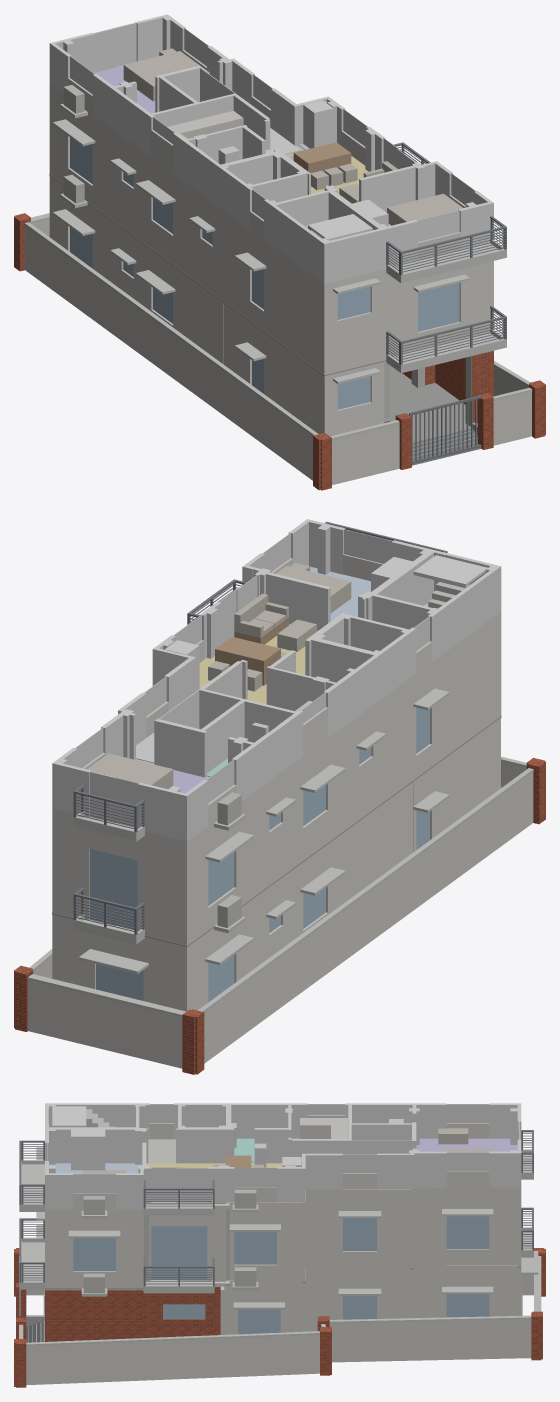
3 views of the same model, one above another, from view 1: azimuth 30°, elevation 25°; view 2: azimuth 150°, elevation 25°; view 3: azimuth 270°, elevation 25° (orthographic). The views are drawn at different scales.
Visible parts, largest first — view 1: BOUNDARY#209, 1ST_FLOOR/wall#294, 1ST_FLOOR/wall#287, GROUND_FLOOR/core_wall#97, 1ST_FLOOR/wall#299, GROUND_FLOOR/flat_wall#46, BOUNDARY#167, PLINTH#0, 2ND_FLOOR/wall#601, 1ST_FLOOR/wall#314, 1ST_FLOOR/wall#304, 1ST_FLOOR/wall#292 (+75 smaller); view 2: BOUNDARY#209, BOUNDARY#205, 1ST_FLOOR/wall#294, 1ST_FLOOR/wall#342, GROUND_FLOOR/core_wall#97, 1ST_FLOOR/wall#299, GROUND_FLOOR/flat_wall#46, 2ND_FLOOR/wall#601, 1ST_FLOOR/wall#345, 1ST_FLOOR/wall#314, 1ST_FLOOR/wall#304, GROUND_FLOOR/flat_wall#78 (+73 smaller); view 3: BOUNDARY#193, BOUNDARY#201, GROUND_FLOOR/full_wall#151, 1ST_FLOOR/wall#336, 1ST_FLOOR/wall#341, 1ST_FLOOR/wall#346, 1ST_FLOOR/wall#351, GROUND_FLOOR/flat_wall#72, 2ND_FLOOR/partition#670, 1ST_FLOOR/wall#334, 1ST_FLOOR/wall#320, 1ST_FLOOR/wall#325 (+105 smaller).
Part boxes in pixels (bbox=[...]): BOUNDARY#209: bbox=[25, 226, 312, 480]; 1ST_FLOOR/wall#294: bbox=[264, 243, 322, 371]; 1ST_FLOOR/wall#287: bbox=[370, 272, 417, 361]; GROUND_FLOOR/core_wall#97: bbox=[270, 337, 324, 433]; 1ST_FLOOR/wall#299: bbox=[212, 206, 251, 318]; GROUND_FLOOR/flat_wall#46: bbox=[173, 266, 223, 363]; BOUNDARY#167: bbox=[332, 424, 399, 484]; PLINTH#0: bbox=[389, 383, 470, 443]; 2ND_FLOOR/wall#601: bbox=[264, 199, 325, 281]; 1ST_FLOOR/wall#314: bbox=[92, 118, 123, 224]; 1ST_FLOOR/wall#304: bbox=[173, 177, 202, 282]; 1ST_FLOOR/wall#292: bbox=[459, 261, 493, 339]; BOUNDARY#209: bbox=[204, 772, 533, 1063]; BOUNDARY#205: bbox=[28, 980, 182, 1068]; 1ST_FLOOR/wall#294: bbox=[430, 618, 498, 764]; 1ST_FLOOR/wall#342: bbox=[137, 835, 189, 943]; GROUND_FLOOR/core_wall#97: bbox=[439, 718, 500, 833]; 1ST_FLOOR/wall#299: bbox=[371, 678, 416, 807]; GROUND_FLOOR/flat_wall#46: bbox=[326, 804, 385, 914]; 2ND_FLOOR/wall#601: bbox=[428, 567, 498, 661]; 1ST_FLOOR/wall#345: bbox=[52, 813, 89, 919]; 1ST_FLOOR/wall#314: bbox=[234, 786, 269, 903]; 1ST_FLOOR/wall#304: bbox=[326, 720, 359, 840]; GROUND_FLOOR/flat_wall#78: bbox=[143, 938, 189, 1011]; BOUNDARY#193: bbox=[26, 1335, 319, 1385]; BOUNDARY#201: bbox=[329, 1319, 531, 1362]; GROUND_FLOOR/full_wall#151: bbox=[45, 1290, 143, 1341]; 1ST_FLOOR/wall#336: bbox=[305, 1192, 342, 1267]; 1ST_FLOOR/wall#341: bbox=[377, 1192, 410, 1266]; 1ST_FLOOR/wall#346: bbox=[414, 1190, 446, 1265]; 1ST_FLOOR/wall#351: bbox=[489, 1191, 517, 1264]; GROUND_FLOOR/flat_wall#72: bbox=[305, 1270, 342, 1331]; 2ND_FLOOR/partition#670: bbox=[176, 1128, 229, 1163]; 1ST_FLOOR/wall#334: bbox=[277, 1206, 302, 1280]; 1ST_FLOOR/wall#320: bbox=[48, 1212, 73, 1287]; 1ST_FLOOR/wall#325: bbox=[116, 1212, 140, 1287].
Bounding box in the file's own units: 8.06 × 7.75 × 18.89.
1 material, 1 textured.
